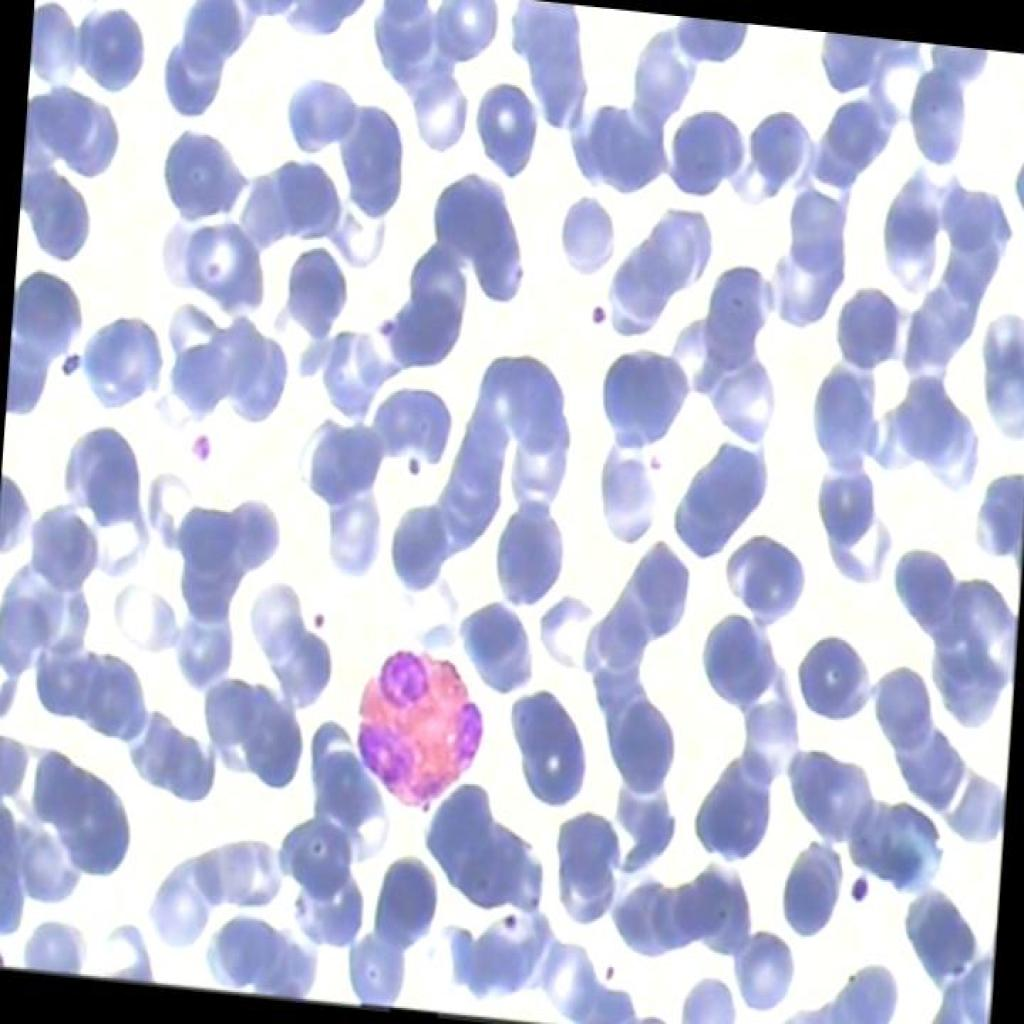Eosinofil: (337, 622, 496, 832)
Platelet: (839, 861, 876, 919), (397, 444, 431, 494), (582, 290, 613, 336), (182, 418, 213, 464), (492, 894, 519, 942), (366, 310, 400, 348), (303, 599, 327, 644), (56, 348, 80, 378)
